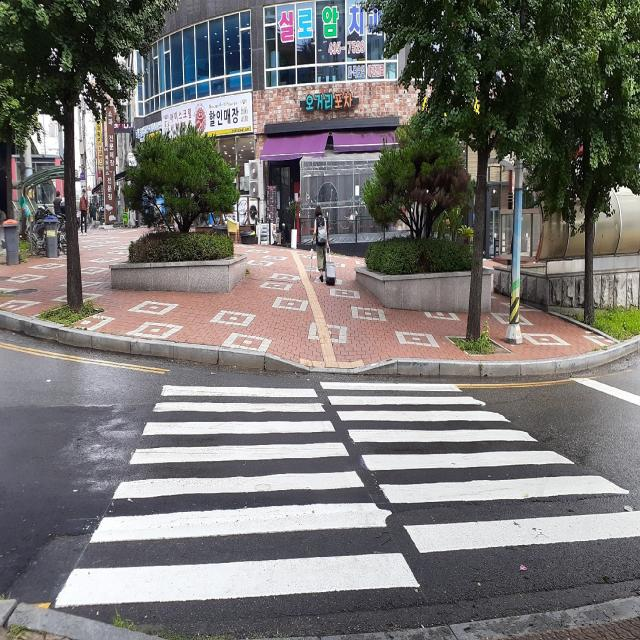횡단보도: (53, 377, 637, 613)
